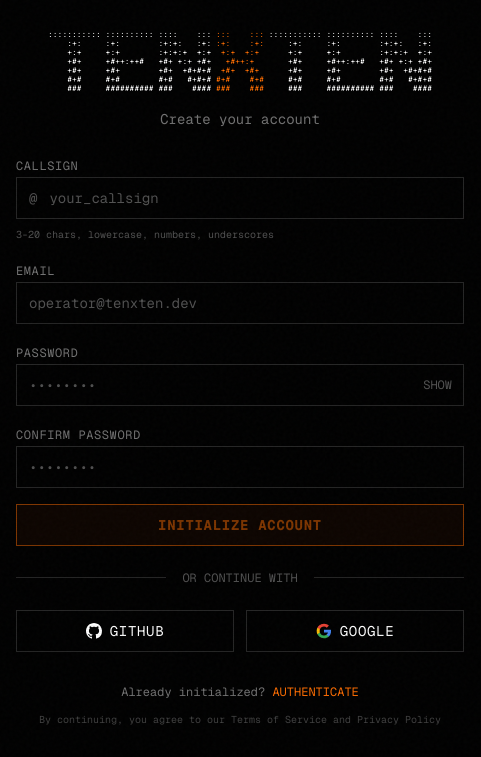
Scenario: Signup Page › should show WEAK for simple passwords
Type "password" into the password field labelled "Password" at x=240, y=384, box [16, 364, 464, 406]
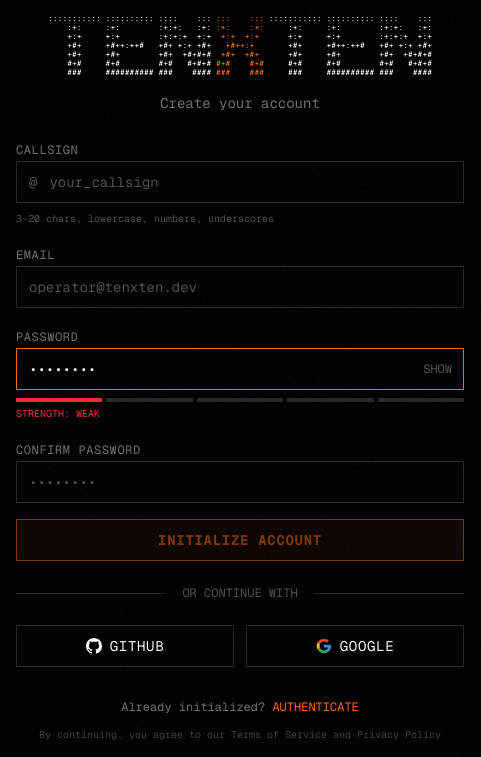
Check: the text "STRENGTH: WEAK" is shown, box [16, 407, 100, 420]
